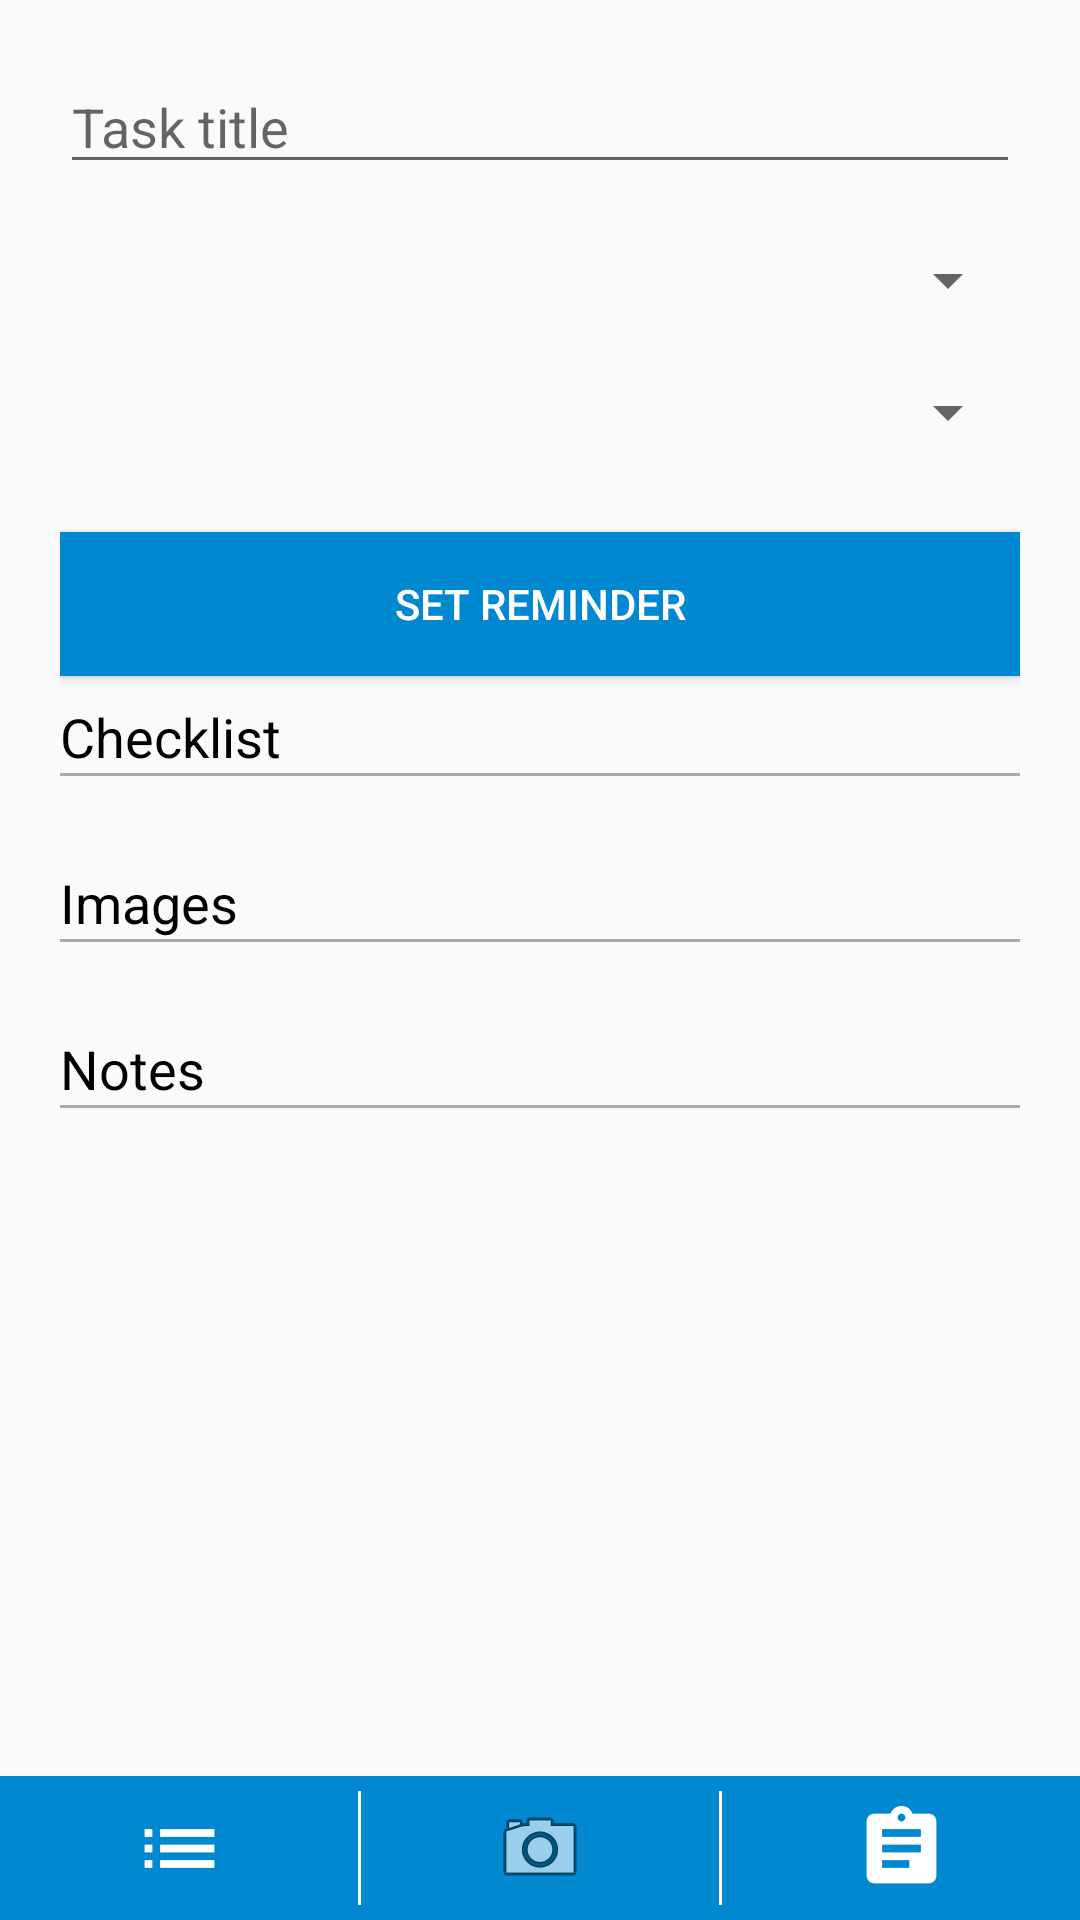

Screen size 1080×1920. Icon name, then its center in pixels as [x,y]:
assignment: [901,1848]
camera: [540,1846]
list: [179,1848]
